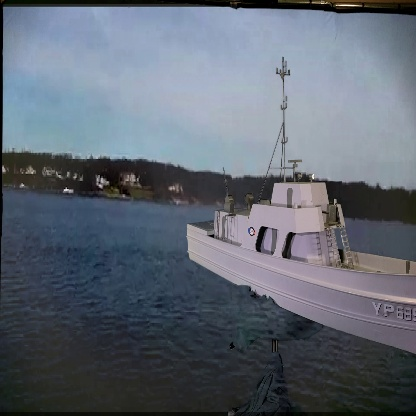YP689: (186, 60, 416, 361)
